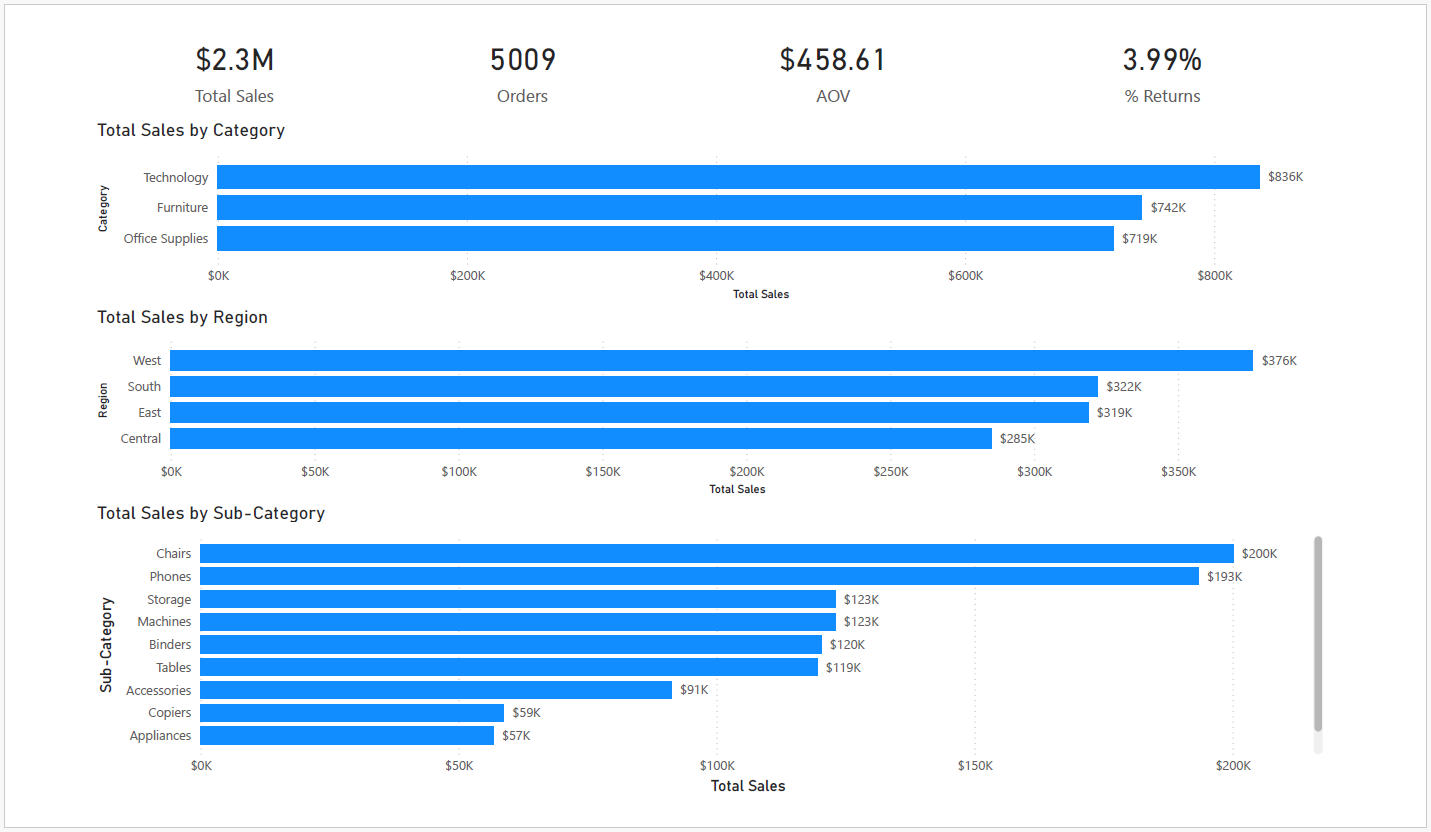

Layout of this report page (visuals, bound fields, positions):
{"tool":"powerbi","page":{"name":"Ops","canvas":[1280,720],"ordinal":1},"visuals":[{"type":"clusteredBarChart","fields":{"Category":["DimProduct.Category"],"Y":["_Measures.Total Sales"]},"box":[57.1,82.1,1155,175.3],"z":0},{"type":"clusteredBarChart","fields":{"Category":["DimRegion.Region"],"Y":["_Measures.Total Sales"]},"box":[57.1,257.4,1155,182.3],"z":1000},{"type":"clusteredBarChart","fields":{"Y":["_Measures.Total Sales"],"Category":["DimProduct.Sub-Category"]},"box":[57.1,439.7,1155,279.7],"z":2000},{"type":"card","fields":{"Values":["_Measures.Orders"]},"box":[354.9,0,208.7,71],"z":3000},{"type":"card","fields":{"Values":["_Measures.AOV"]},"box":[640.1,0,219.9,71],"z":4000},{"type":"card","fields":{"Values":["_Measures.% Returns"]},"box":[942.1,0,231,71],"z":5000},{"type":"card","fields":{"Values":["_Measures.Total Sales"]},"box":[84.9,0,211.5,71],"z":6000}]}

Visuals, with their boxes on the page's 1280x720 design canvas (x1, y1, x2, y2). These are canvas units, not pixel positions in the 1431x832 screenshot, which may show the page scaled, cropped or inside an application window:
clusteredBarChart - DimProduct.Category x _Measures.Total Sales: bbox=[57, 82, 1212, 257]
clusteredBarChart - DimRegion.Region x _Measures.Total Sales: bbox=[57, 257, 1212, 440]
clusteredBarChart - _Measures.Total Sales x DimProduct.Sub-Category: bbox=[57, 440, 1212, 719]
card - _Measures.Orders: bbox=[355, 0, 564, 71]
card - _Measures.AOV: bbox=[640, 0, 860, 71]
card - _Measures.% Returns: bbox=[942, 0, 1173, 71]
card - _Measures.Total Sales: bbox=[85, 0, 296, 71]
